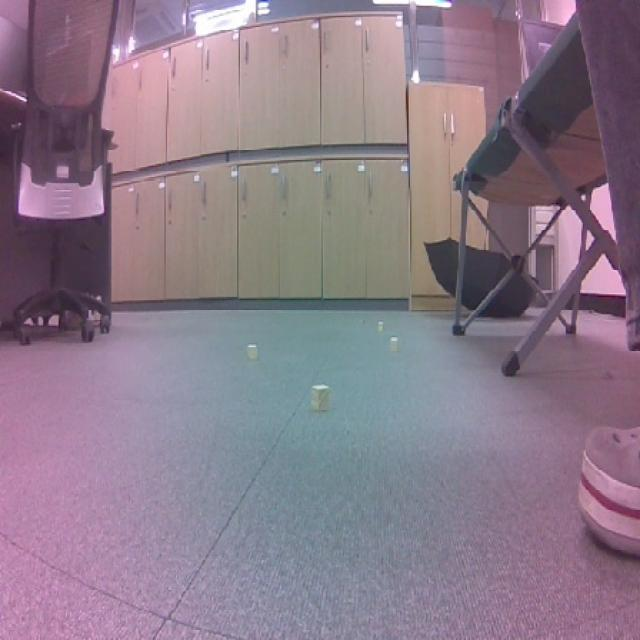obstacle: (297, 372, 341, 427)
